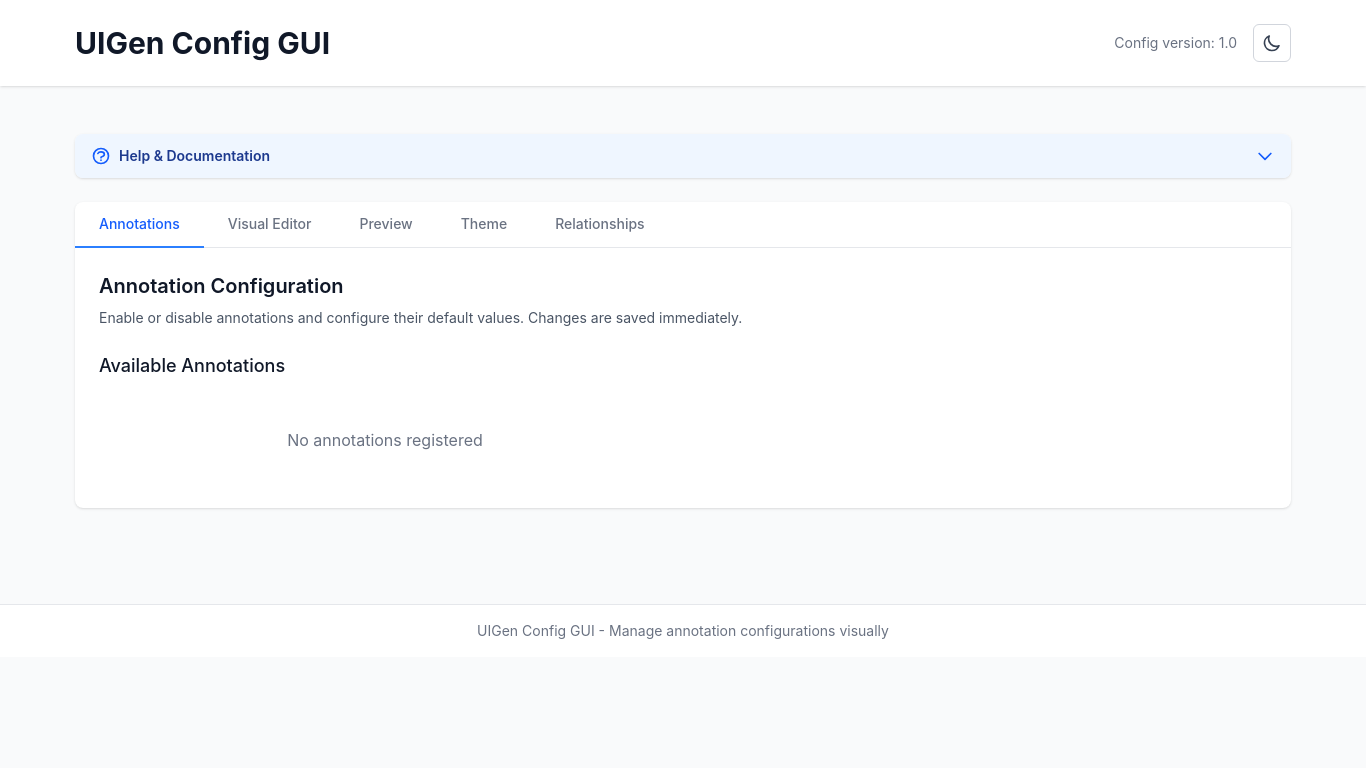
it: App › should maintain tab state when switching between tabs
expect the button with test id "annotations-tab" is shown: met, box [75,202,204,248]
Switch to CSS tab
Step 1. Click the button with test id "css-tab" → (484, 225), box [437,202,531,248]
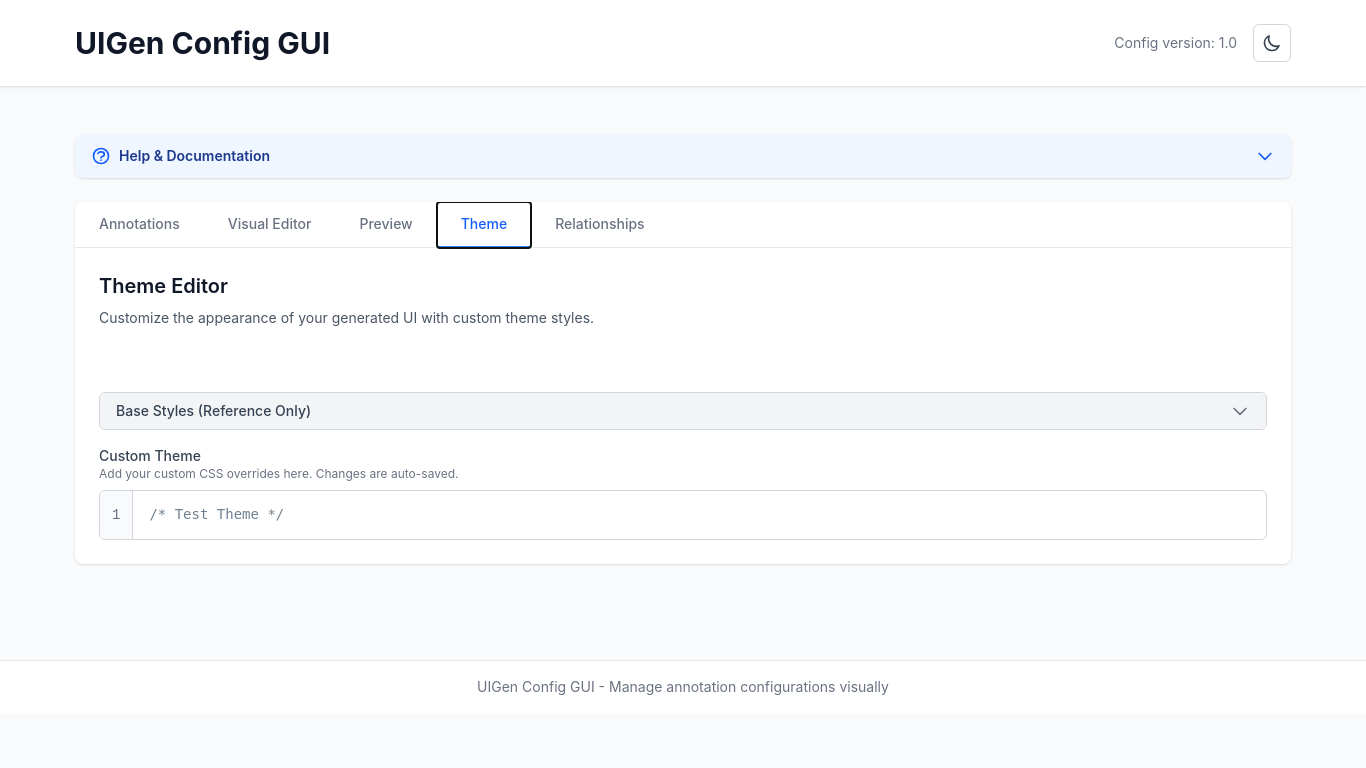
expect the button with test id "css-tab" is marked as current: met, box [437,202,531,248]
Switch to annotations tab
Step 2. Click the button with test id "annotations-tab" → (139, 225), box [75,202,204,248]
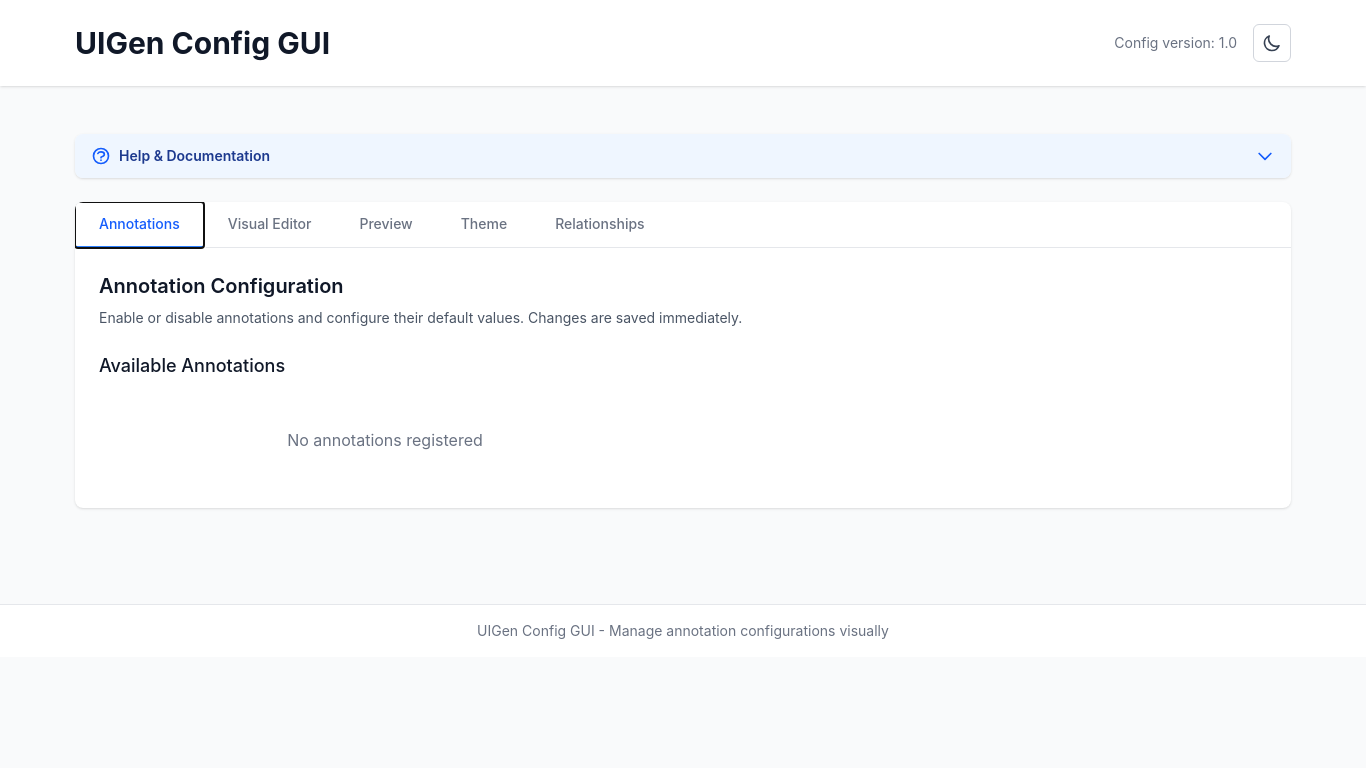
expect the button with test id "annotations-tab" is marked as current: met, box [75,202,204,248]
Switch back to CSS tab - should maintain state
Step 3. Click the button with test id "css-tab" → (484, 225), box [437,202,531,248]
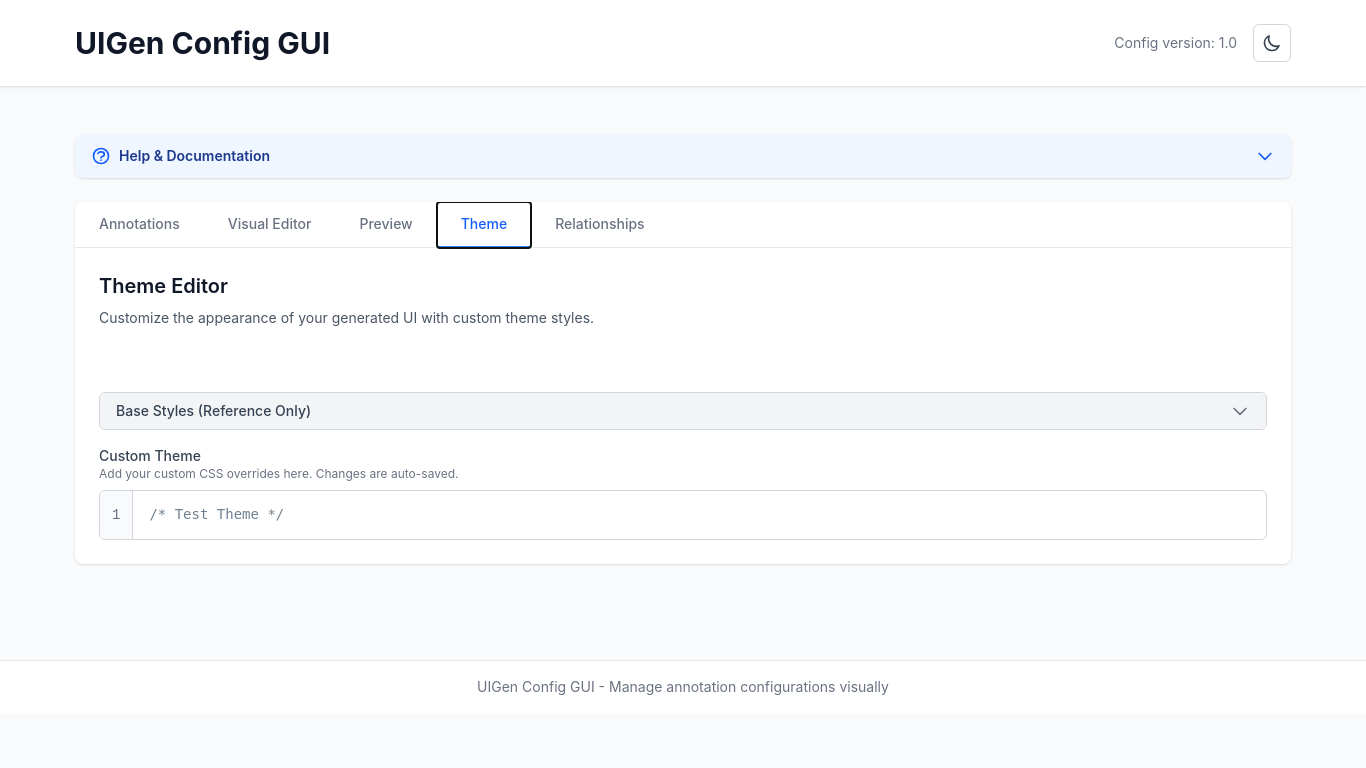
expect the text box with test id "css-editor-textarea" is shown: met, box [133,491,1266,539]
